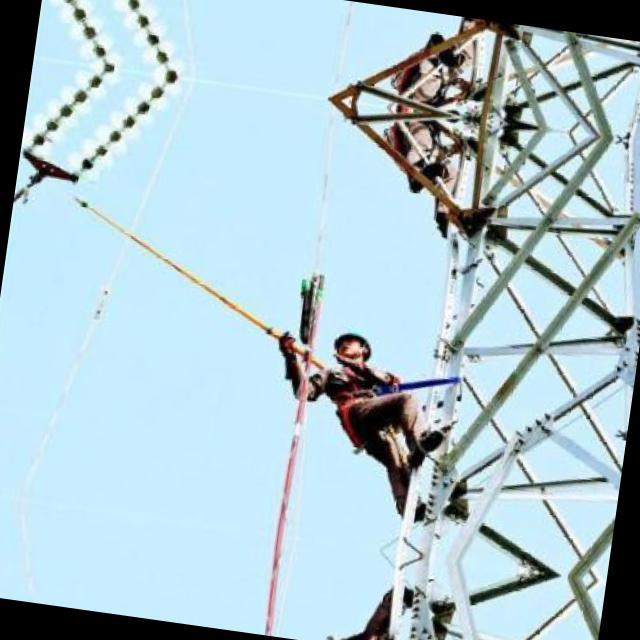helmet: (325, 318, 380, 371)
